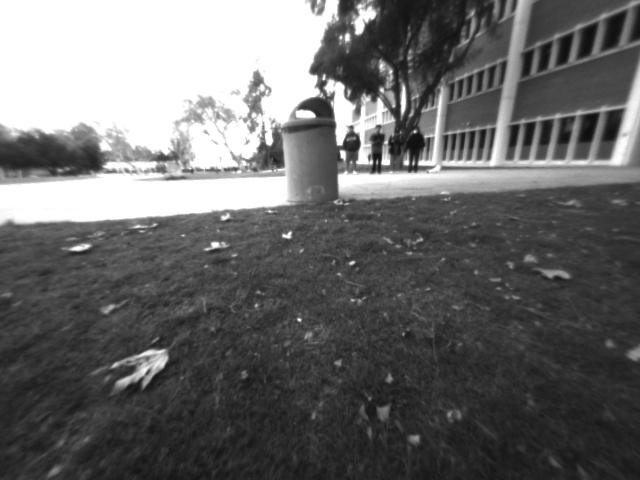trashcan: (272, 90, 355, 217)
